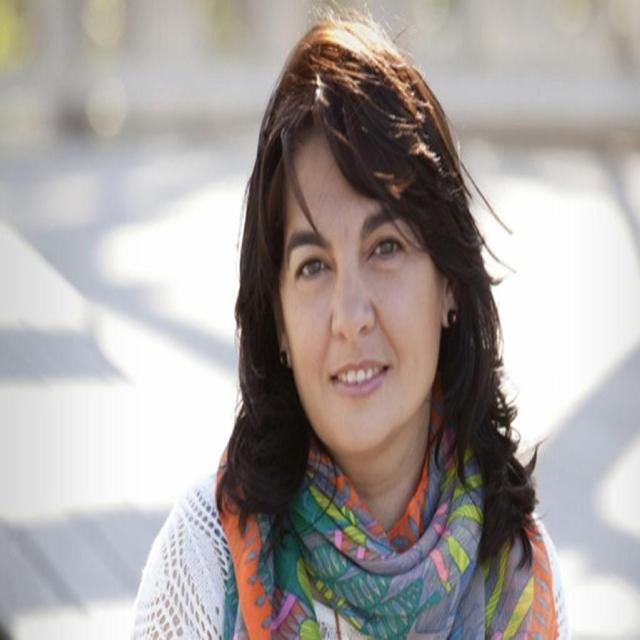Face: (272, 106, 451, 457)
